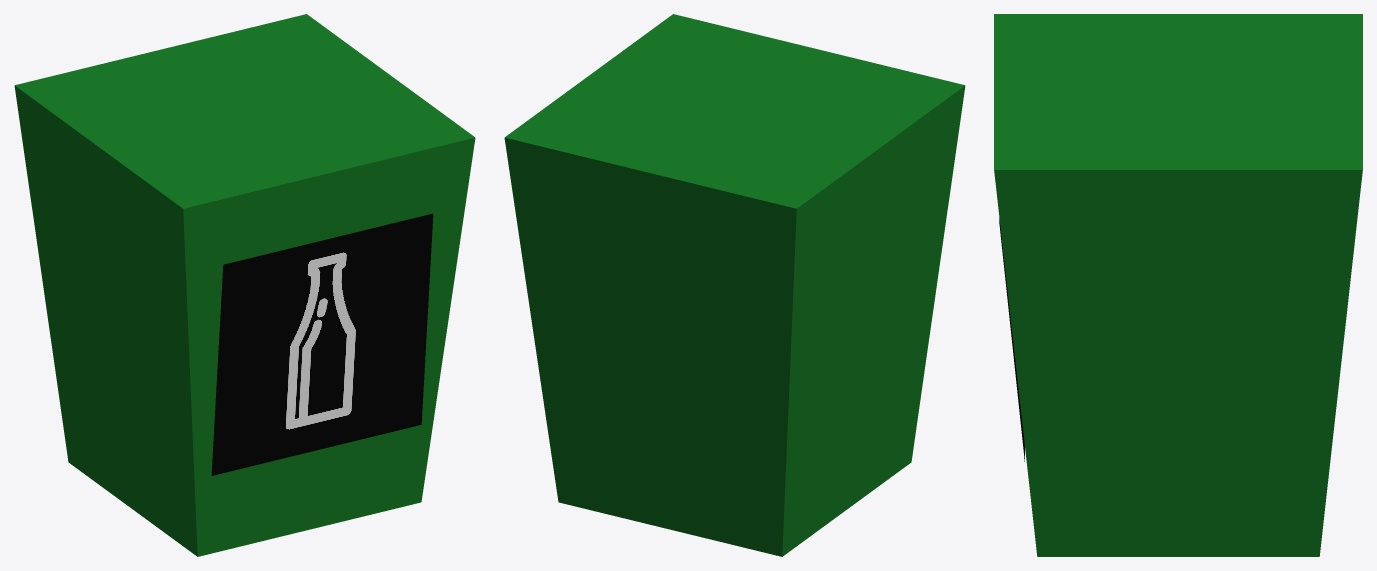
The model's file is GlassTrash 1.fbx.
The picture shows the model from 3 angles, left to right: view 1: azimuth 30°, elevation 25°; view 2: azimuth 150°, elevation 25°; view 3: azimuth 270°, elevation 25°; orthographic projection. The views are drawn at different scales.
Parts seen in each view (by area): view 1: glass; view 2: glass; view 3: glass.
Part boxes in pixels (box(x1,y1,x2,y2)): glass: box(14, 14, 475, 556); glass: box(504, 14, 965, 556); glass: box(994, 14, 1362, 556).
Size of the model in its own units: 41.17 by 49.93 by 41.17.
2 materials, 1 textured.
